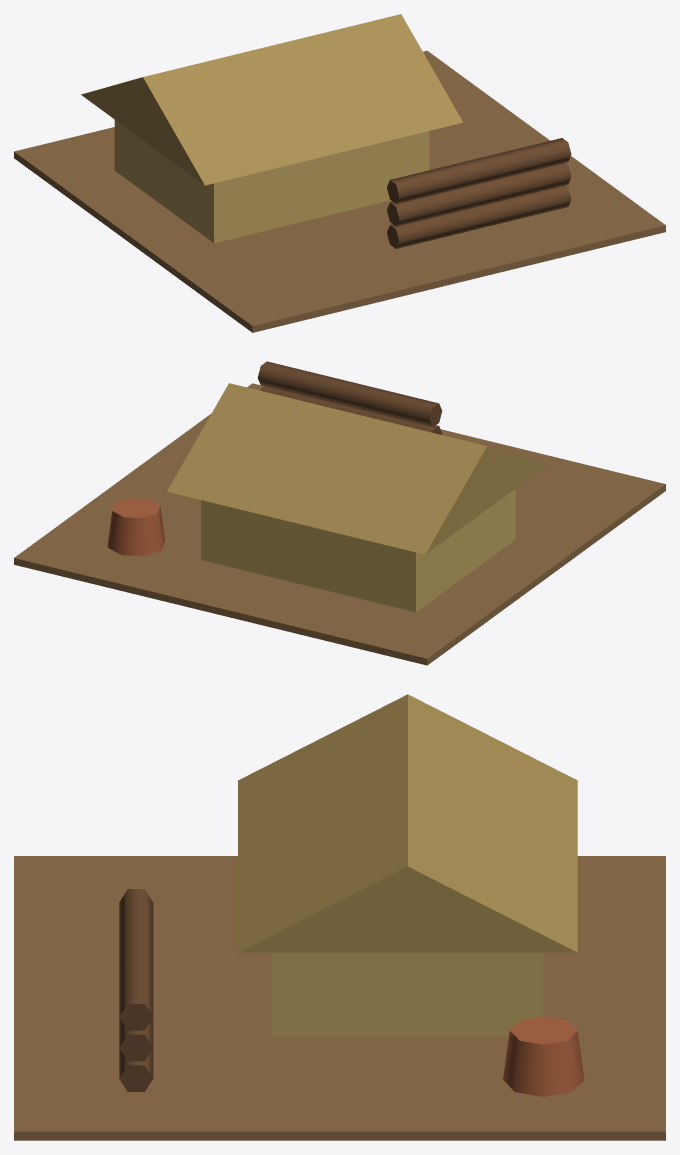
File: zone_I_d1_e1.glb
3 views of the same model, one above another, from view 1: azimuth 30°, elevation 25°; view 2: azimuth 150°, elevation 25°; view 3: azimuth 270°, elevation 25° (orthographic). The views are drawn at different scales.
Parts seen in each view (by area): view 1: zone_I_d1_e1; view 2: zone_I_d1_e1; view 3: zone_I_d1_e1.
Part boxes in pixels (x1,y1,x2,y2): zone_I_d1_e1: [14, 14, 665, 332]; zone_I_d1_e1: [14, 361, 665, 665]; zone_I_d1_e1: [14, 694, 665, 1140].
Bounding box in the file's own units: 0.96 × 0.315 × 0.96.
